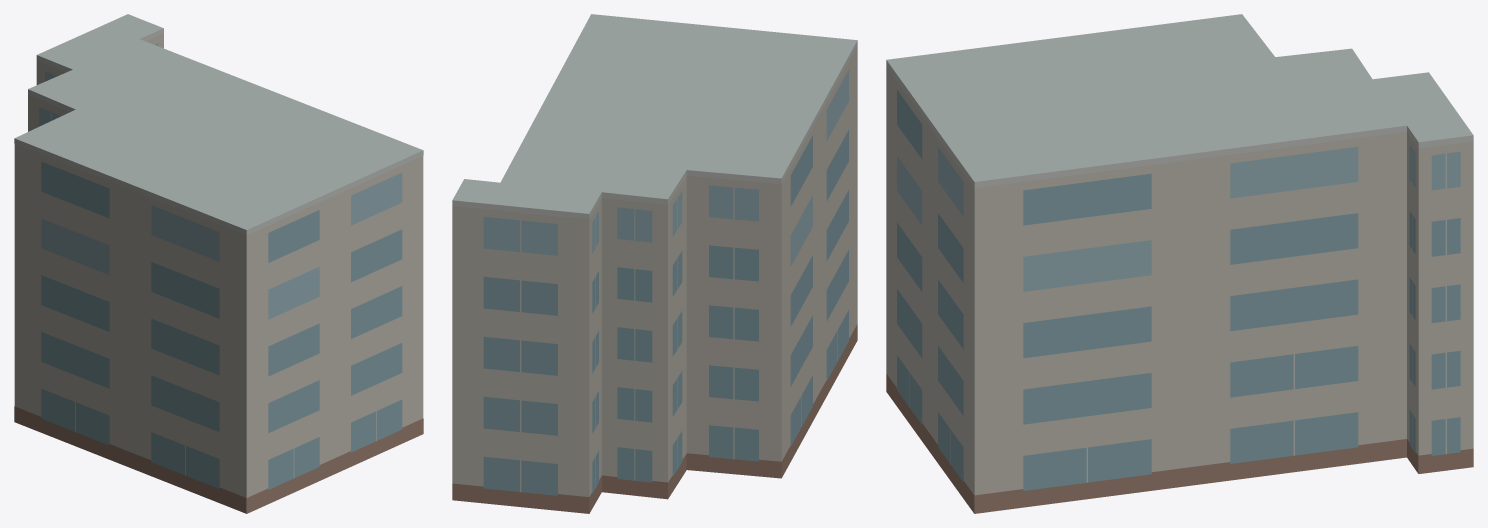
Rendered from survey-upis-32918581.glb.
3 views of the same model, side by side, from view 1: azimuth 30°, elevation 25°; view 2: azimuth 150°, elevation 25°; view 3: azimuth 270°, elevation 25° (orthographic). The views are drawn at different scales.
Parts seen in each view (by area): view 1: survey-upis-32918581.tmp; view 2: survey-upis-32918581.tmp; view 3: survey-upis-32918581.tmp.
Part boxes in pixels (x1,y1,x2,y2): survey-upis-32918581.tmp: [14, 14, 423, 513]; survey-upis-32918581.tmp: [452, 14, 857, 513]; survey-upis-32918581.tmp: [886, 14, 1473, 513].
Size of the model in its own units: 14.13 by 13 by 20.86.
